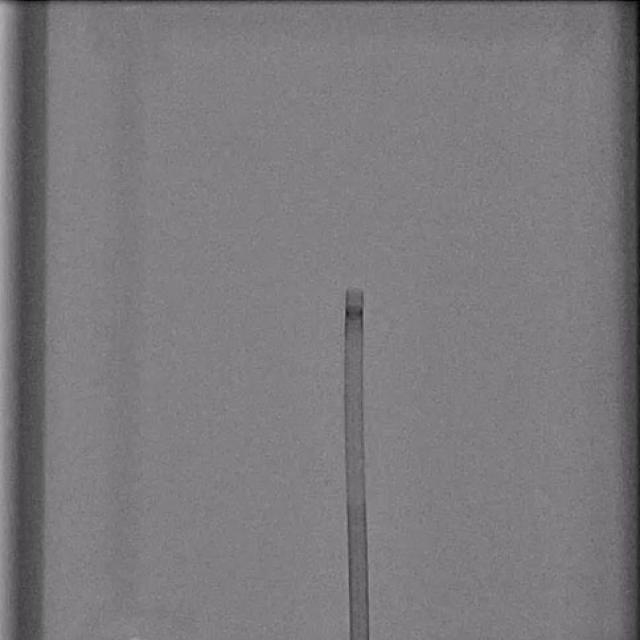bend: (347, 491, 368, 503)
entry: (350, 634, 370, 640)
marker: (345, 306, 363, 322)
tip: (346, 288, 364, 296)
